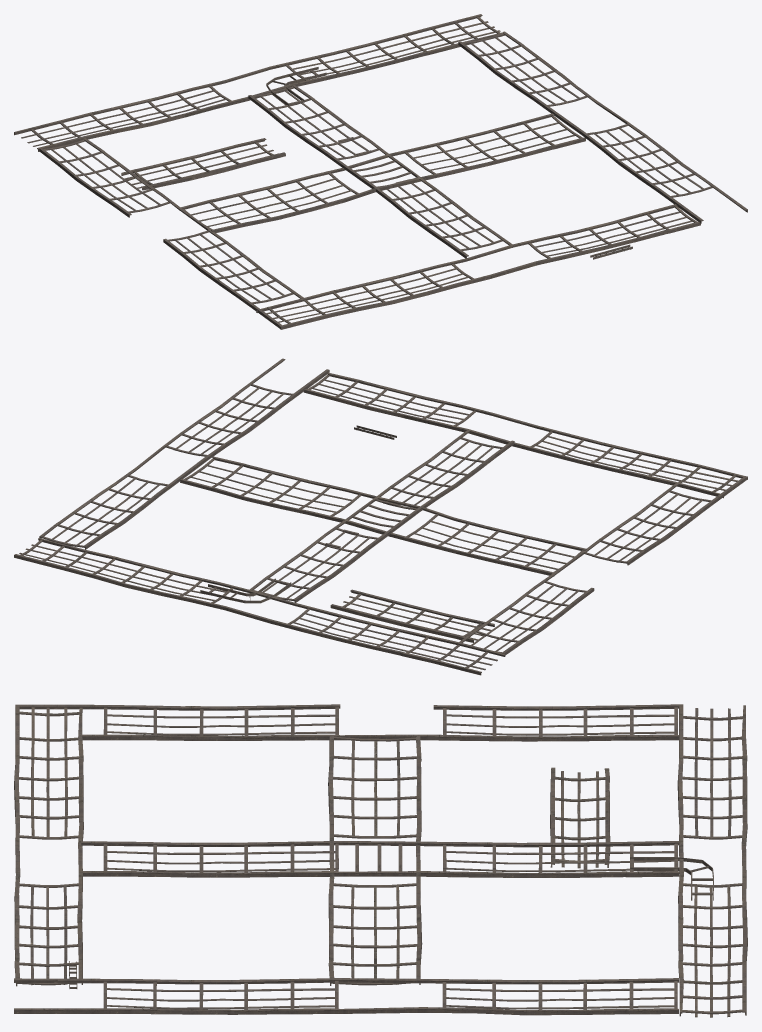
The model's file is Corridor_01_14.fbx.
The picture shows the model from 3 angles, top to bottom: view 1: azimuth 30°, elevation 25°; view 2: azimuth 150°, elevation 25°; view 3: azimuth 270°, elevation 25°; orthographic projection. The views are drawn at different scales.
Visible parts, largest first — view 1: Corridor_01_14; view 2: Corridor_01_14; view 3: Corridor_01_14.
Part boxes in pixels (left/top/right/bottom): Corridor_01_14: left=14, top=14, right=747, bottom=329; Corridor_01_14: left=14, top=358, right=747, bottom=675; Corridor_01_14: left=14, top=704, right=747, bottom=1017.
Size of the model in its own units: 3744 by 251 by 3718.
